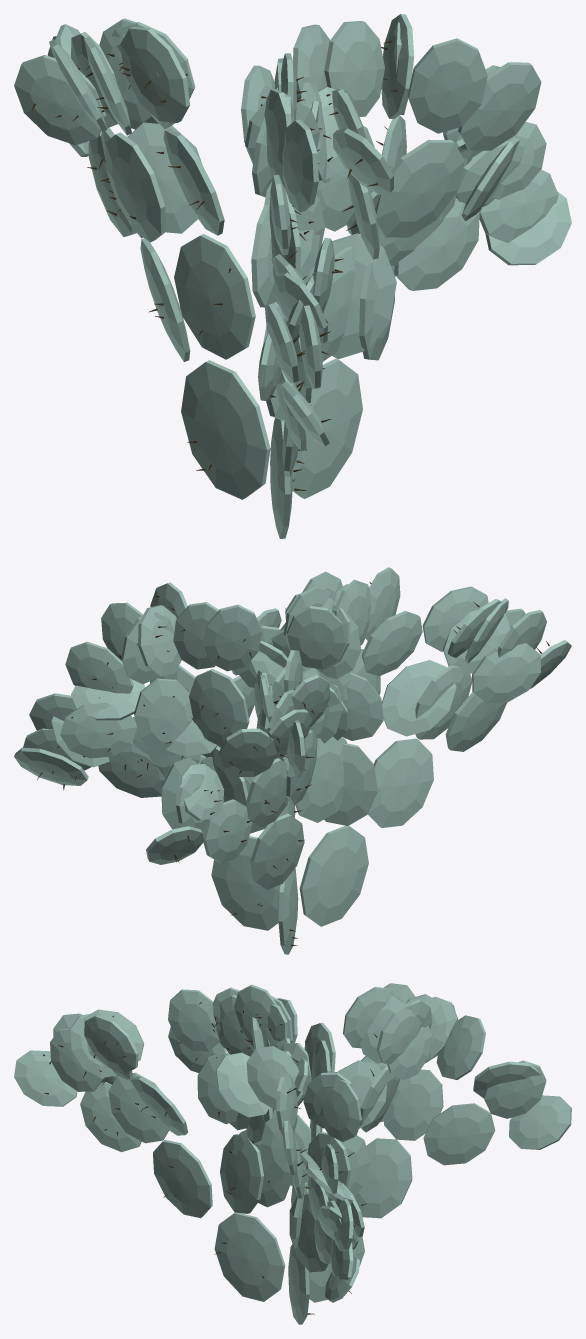
Rendered from prickly_pear_v01.fbx.
3 views of the same model, one above another, from view 1: azimuth 30°, elevation 25°; view 2: azimuth 150°, elevation 25°; view 3: azimuth 270°, elevation 25° (orthographic). The views are drawn at different scales.
Parts seen in each view (by area): view 1: prickly_pear_v01; view 2: prickly_pear_v01; view 3: prickly_pear_v01.
Boxes of the visible parts, x1=… form: prickly_pear_v01: x1=14, y1=14, x2=571, y2=538; prickly_pear_v01: x1=14, y1=567, x2=571, y2=954; prickly_pear_v01: x1=14, y1=983, x2=571, y2=1324.
Bounding box in the file's own units: 77.21 × 68.24 × 109.
Materials: 2 (1 with a texture image).
